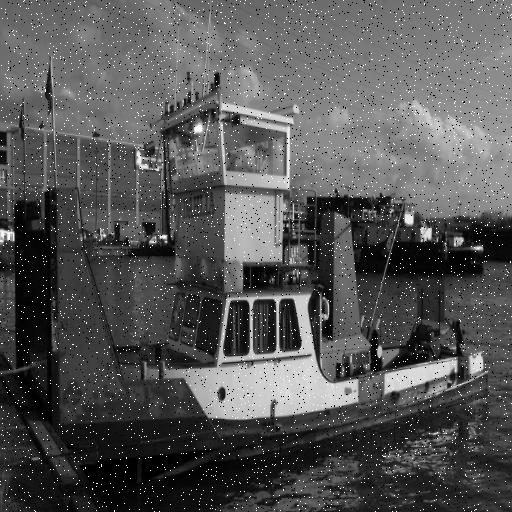tugboat: (13, 69, 493, 502)
